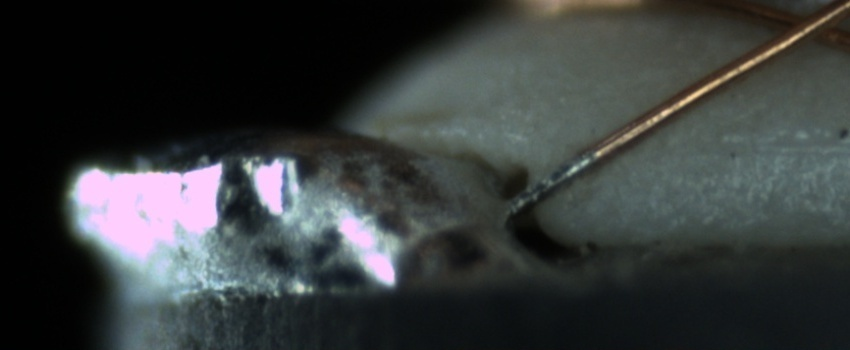CL: (753, 0, 848, 57)
DL: (674, 114, 849, 175)
TS: (506, 149, 599, 215)
